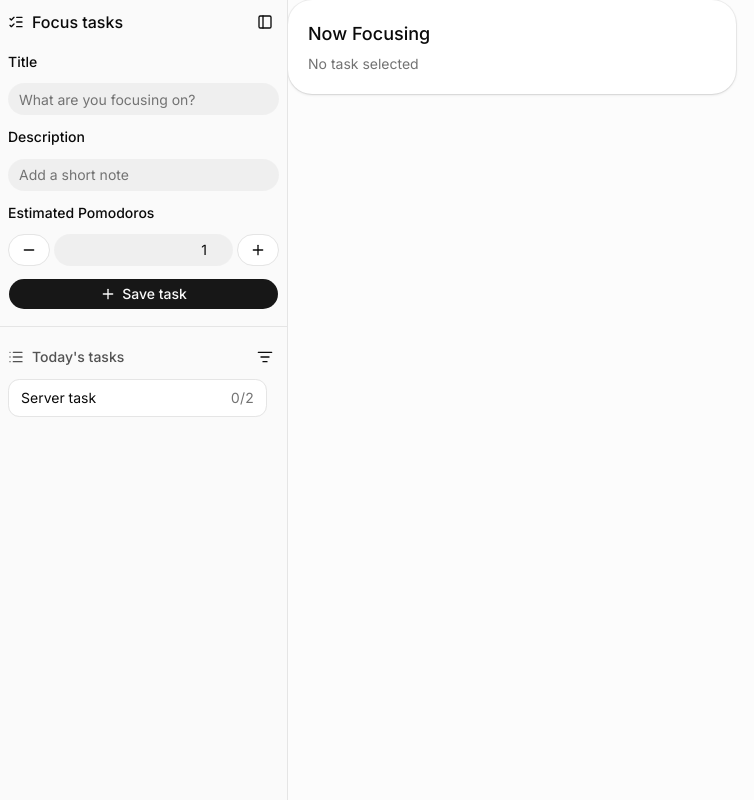
Test: signed-in focus tasks › selects a queried task and shows it in the task panel
Click the button "Server task 0/2". click: click(138, 398)
box: [8, 379, 267, 417]
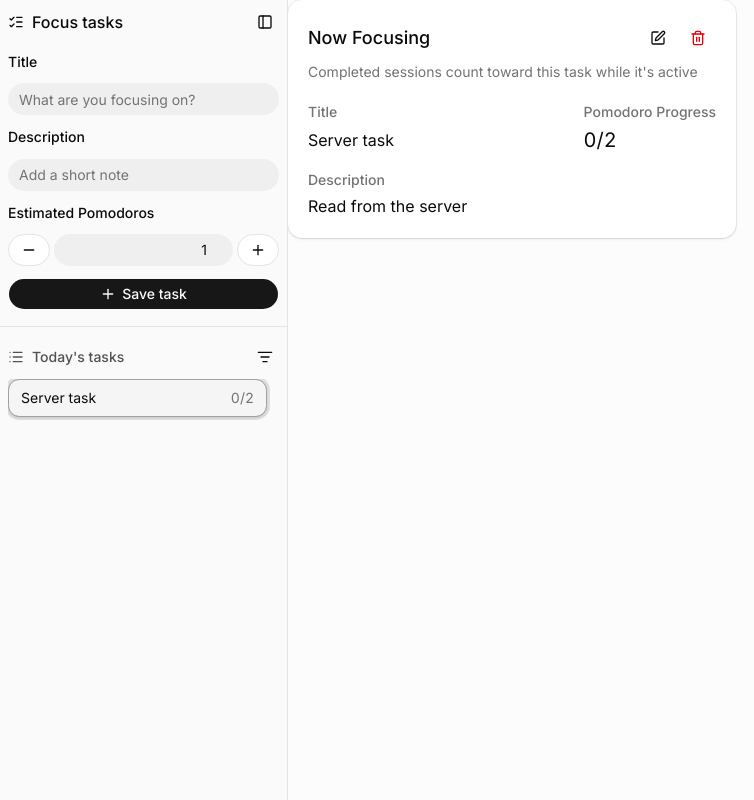
Check: the text "Read from the server" is shown, box [308, 196, 467, 216]
Check: the text "No task selected" is gone
